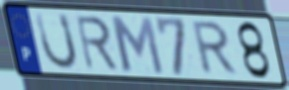7: (152, 14, 188, 78)
8: (236, 20, 272, 81)
M: (107, 14, 167, 77)
R: (191, 20, 241, 77), (73, 14, 121, 72)
U: (33, 10, 80, 72)
